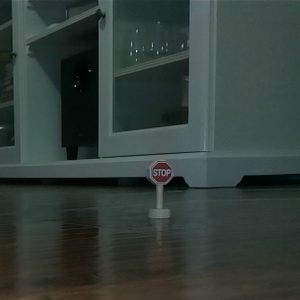stop sign: (144, 158, 174, 222)
